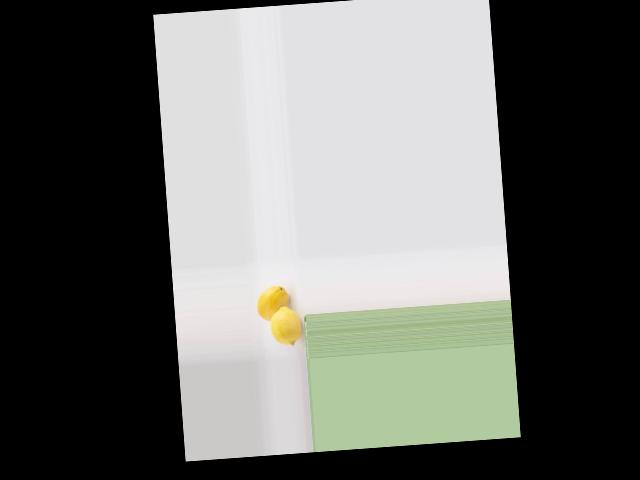lemon: (254, 283, 287, 319)
